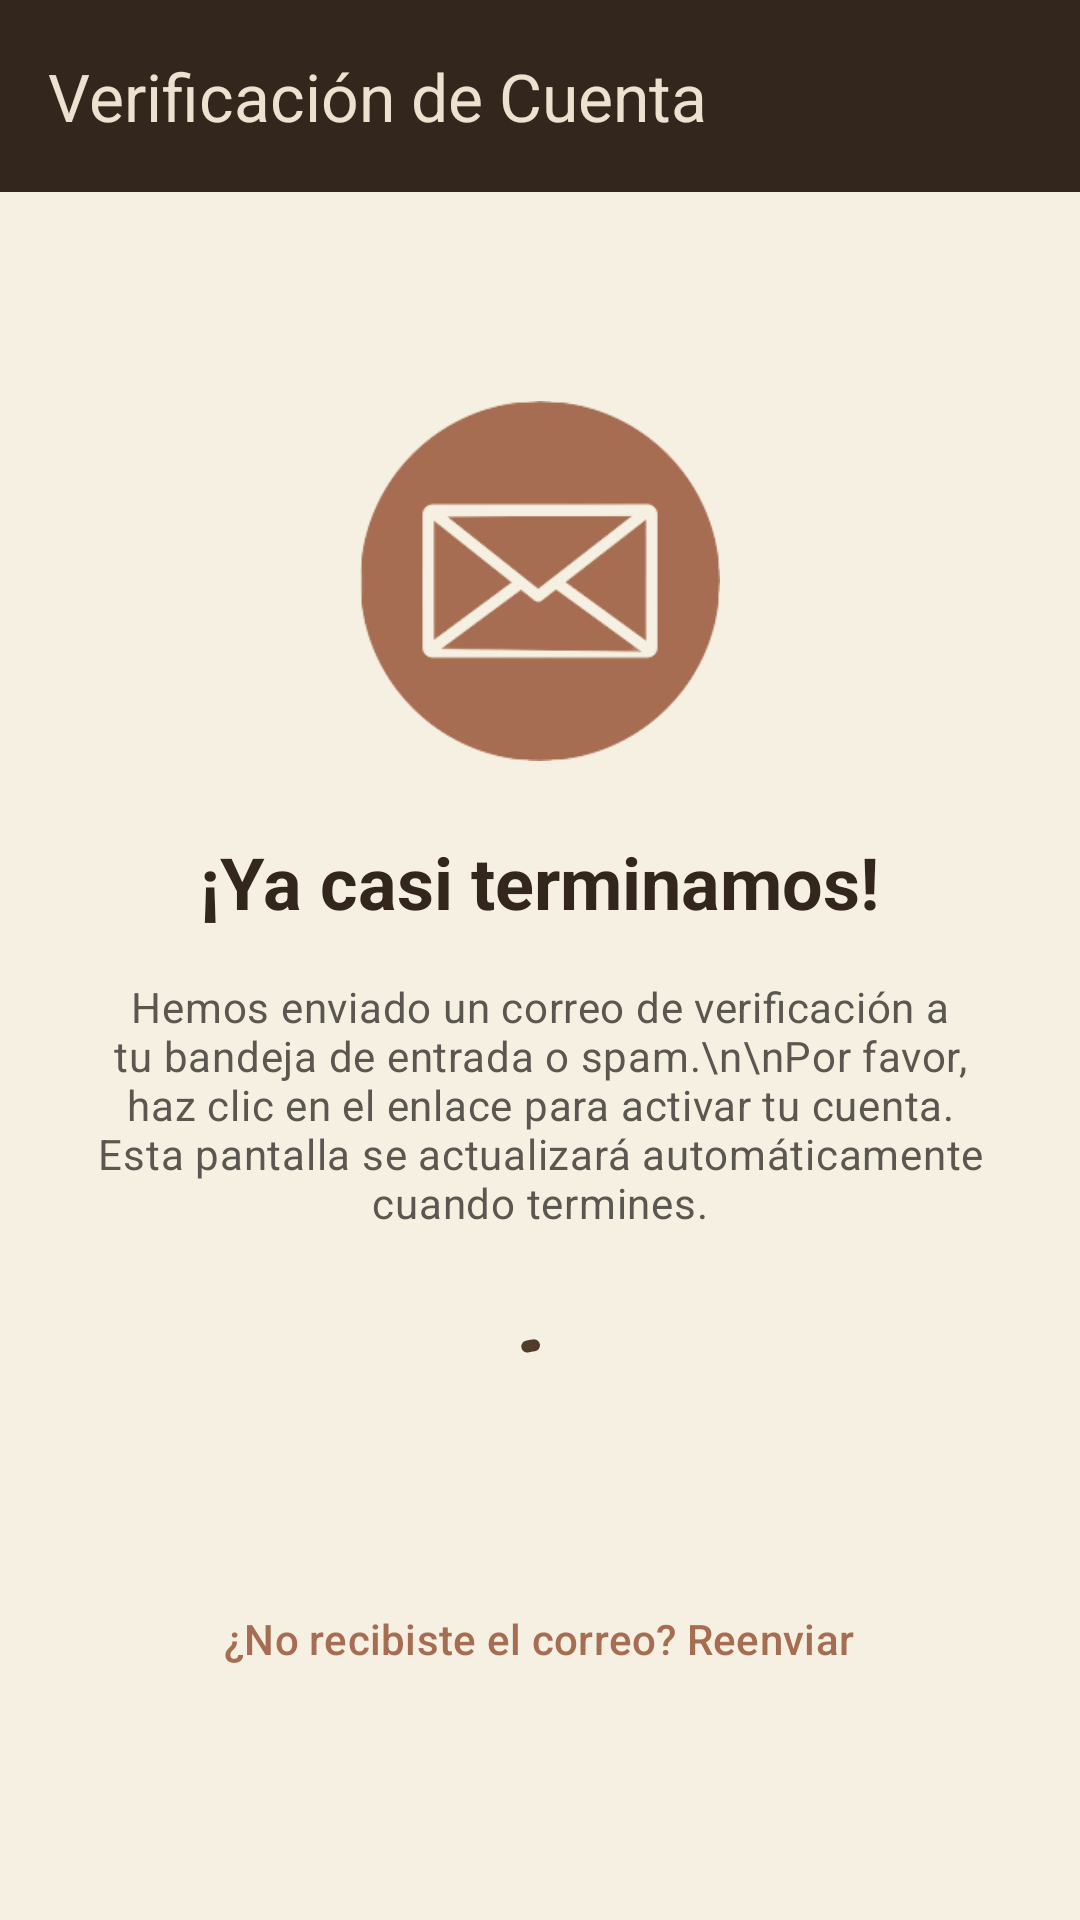

Where icons sit on this 1080px x 1920px app screen, as [x1, y1, x2, y2]:
email: [361, 401, 720, 761]
